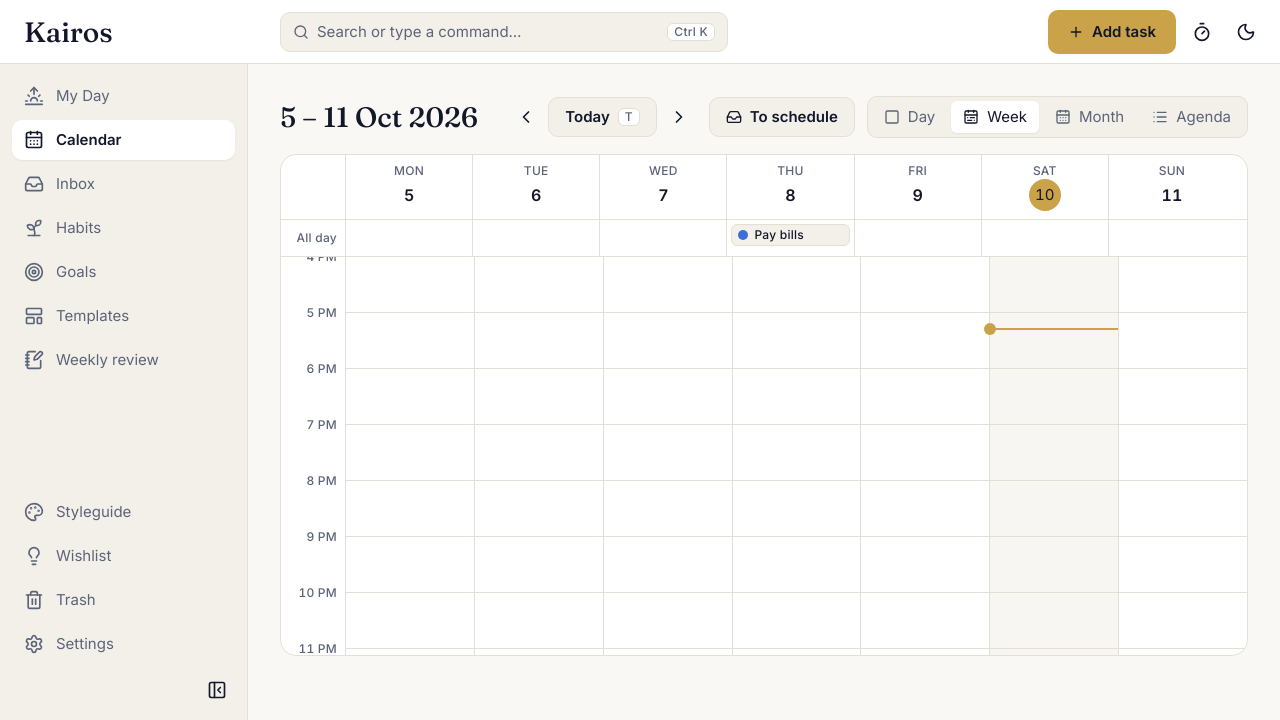
Test: Calendar › switches views and steps through time
(page scrolled)
Click the radio button labelled "Month" at (1090, 116), box [1055,107,1124,126]
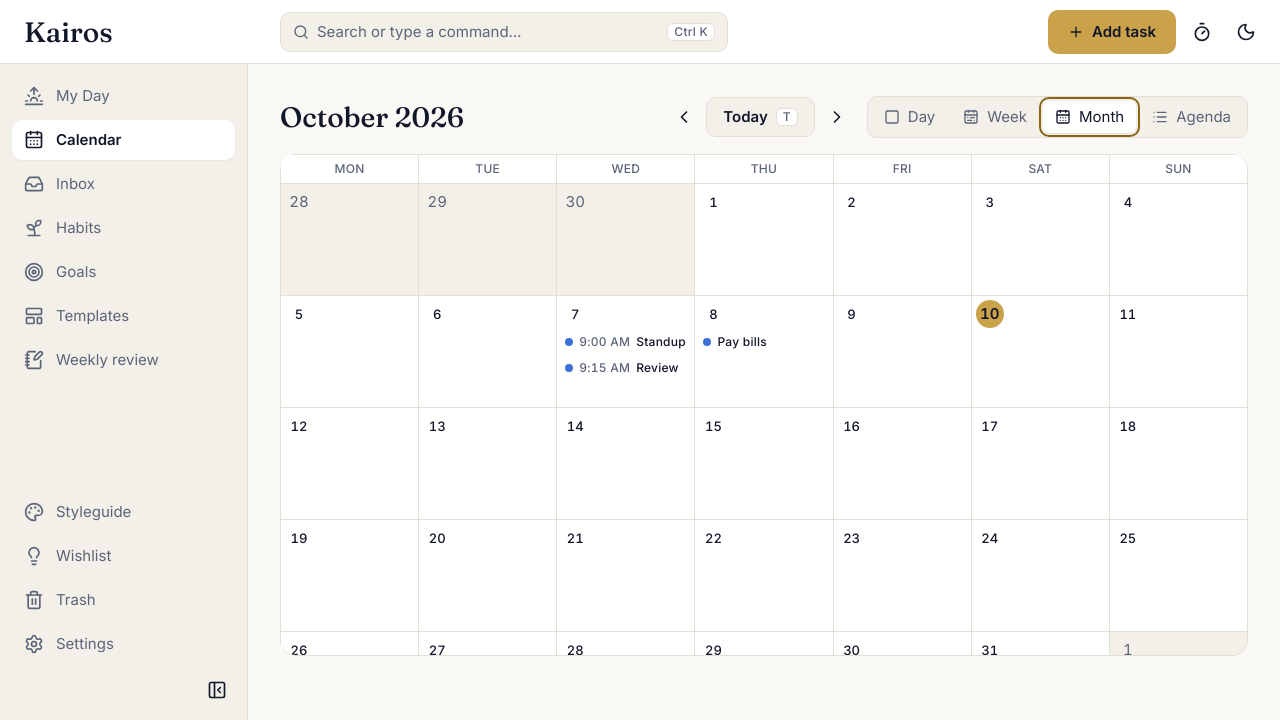
Check: the heading reads "October 2026", box [280,100,464,134]
Check: the button named "Open Wednesday 7 October" is shown, box [561,300,589,328]
Click the button named "Next month" at (837, 117), box [819,99,855,135]
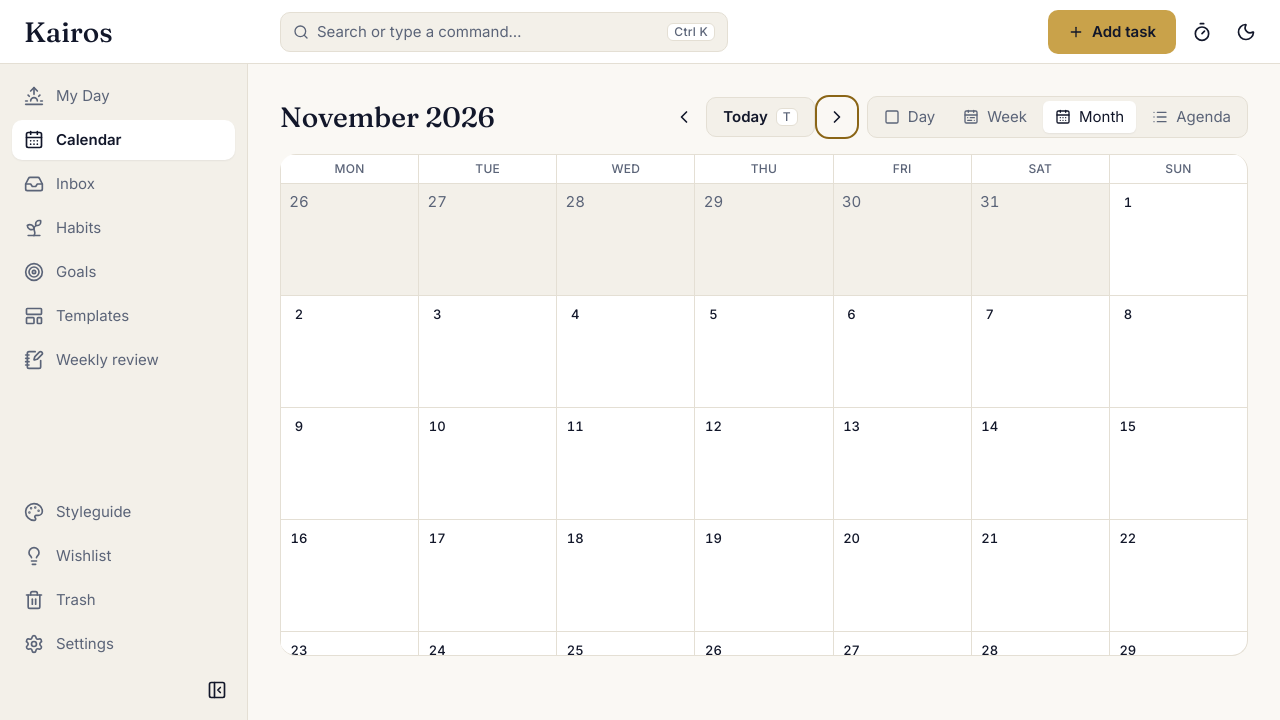
Check: the heading reads "November 2026", box [280,100,495,134]
Click the radio button labelled "Day" at (910, 116), box [884,107,935,126]
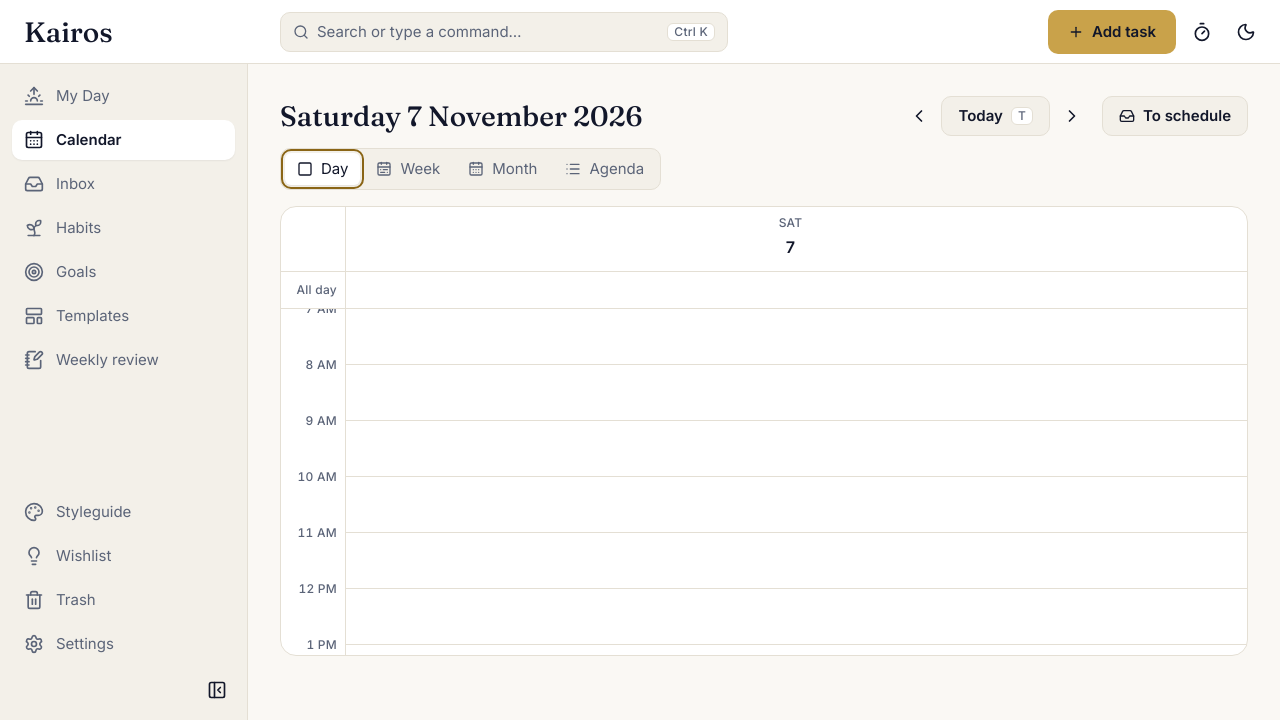
Check: the heading reads "Saturday 7 November 2026", box [280,99,642,133]
